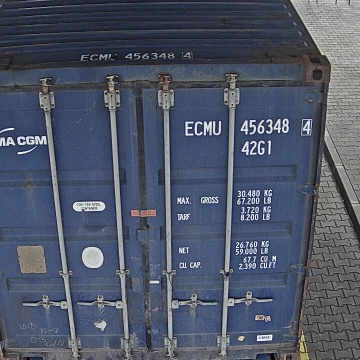serial_id: (184, 118, 310, 136)
